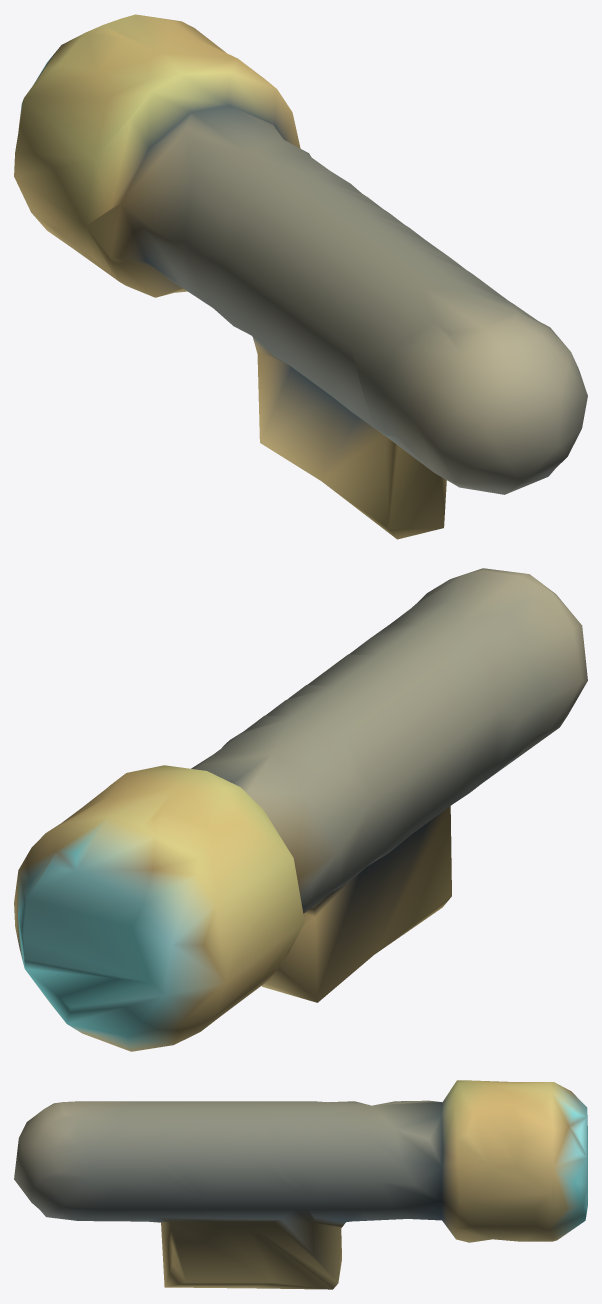
File: hero_rifle_scope.glb
3 renders of one model, top to bottom at view 1: azimuth 30°, elevation 25°; view 2: azimuth 150°, elevation 25°; view 3: azimuth 270°, elevation 25°, orthographic. The views are drawn at different scales.
Visible parts, largest first — view 1: geometry_0; view 2: geometry_0; view 3: geometry_0.
Boxes of the visible parts, left/top/right/bottom form: geometry_0: left=14, top=14, right=587, bottom=539; geometry_0: left=14, top=568, right=587, bottom=1051; geometry_0: left=14, top=1080, right=587, bottom=1289.
Bounding box in the file's own units: 0.0543 × 0.072 × 0.1915.
